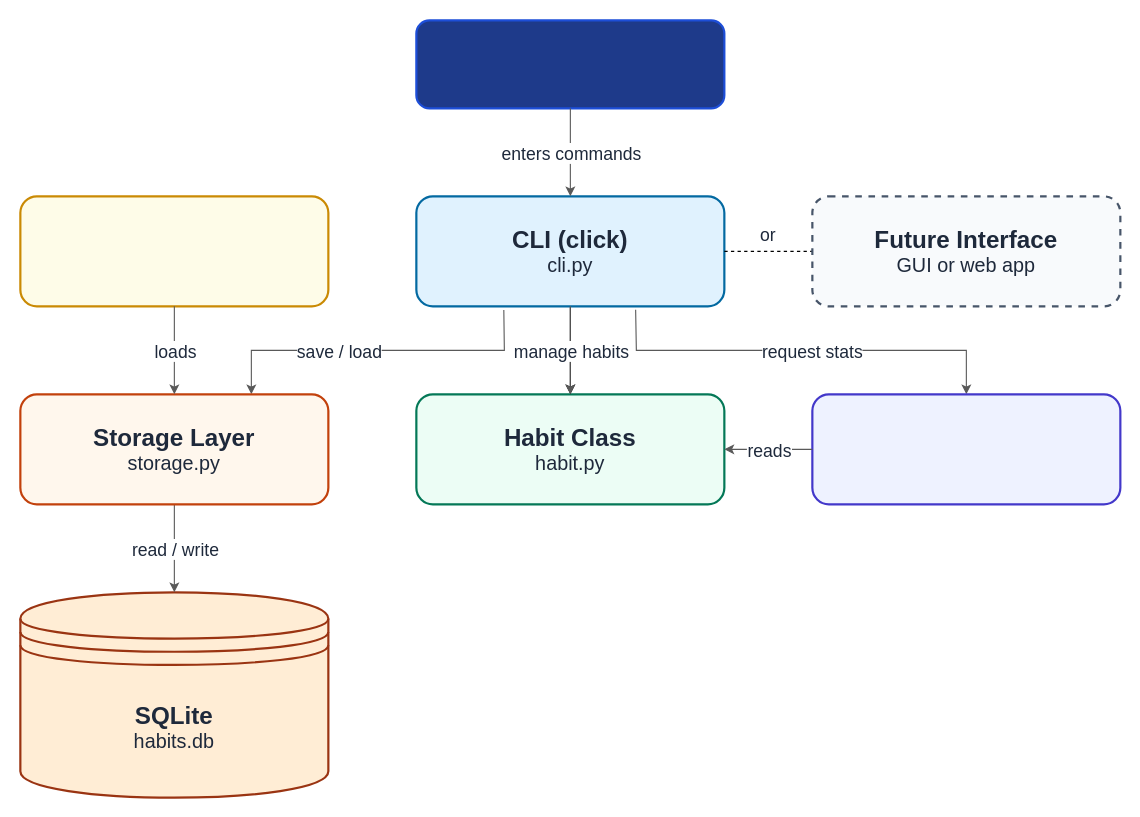
Image size: 1140x817. Some labels were removed from this diagram. Here are the shapes that lost their labels. From the top down, the centre of each, then its label:
the point at 570,64: User
the point at 174,251: Example Data fixtures.py
the point at 966,449: Analytics analytics.py
